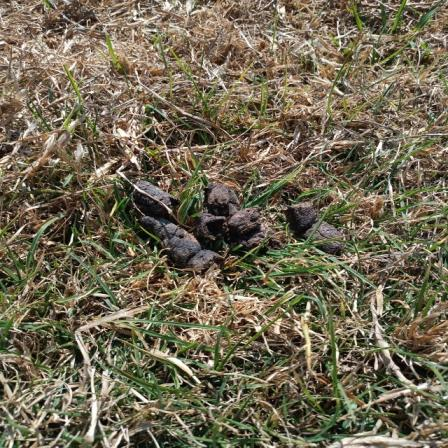dog-poop: (122, 168, 350, 270)
